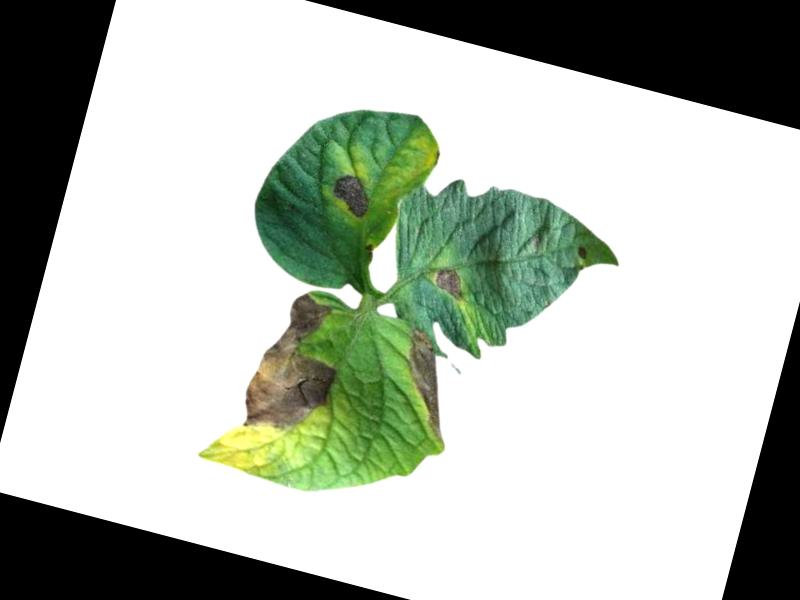Early_blight: (237, 283, 356, 446), (388, 327, 476, 440), (326, 169, 377, 222), (429, 264, 471, 303), (575, 243, 592, 262)
